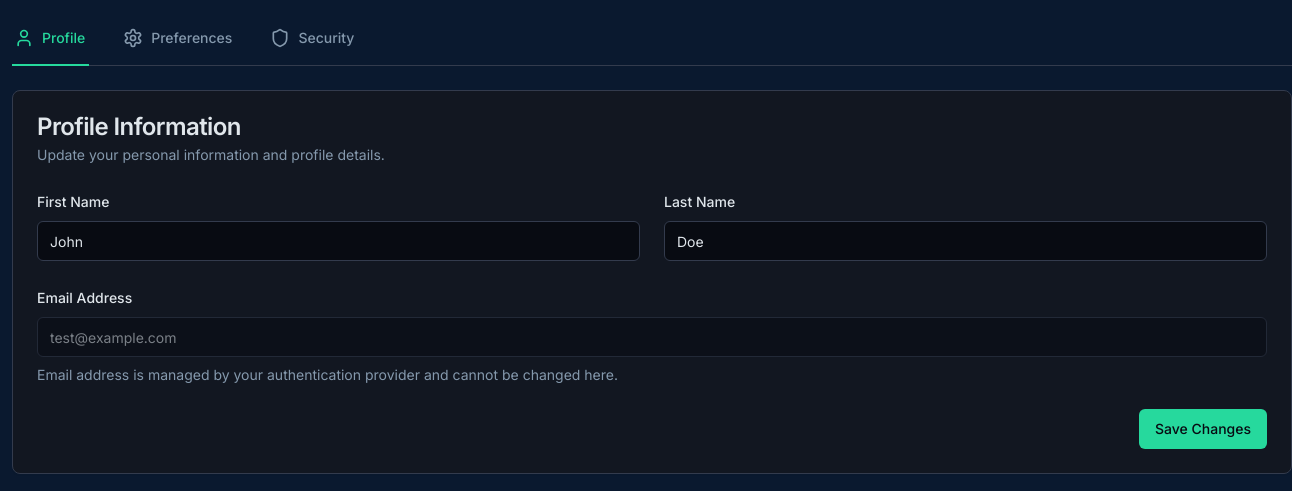
UserProfile › Profile Form › shows loading state during form submission
The image size is (1292, 491).
Click the button "Save Changes".
click(1203, 429)  # box [1139, 409, 1267, 449]
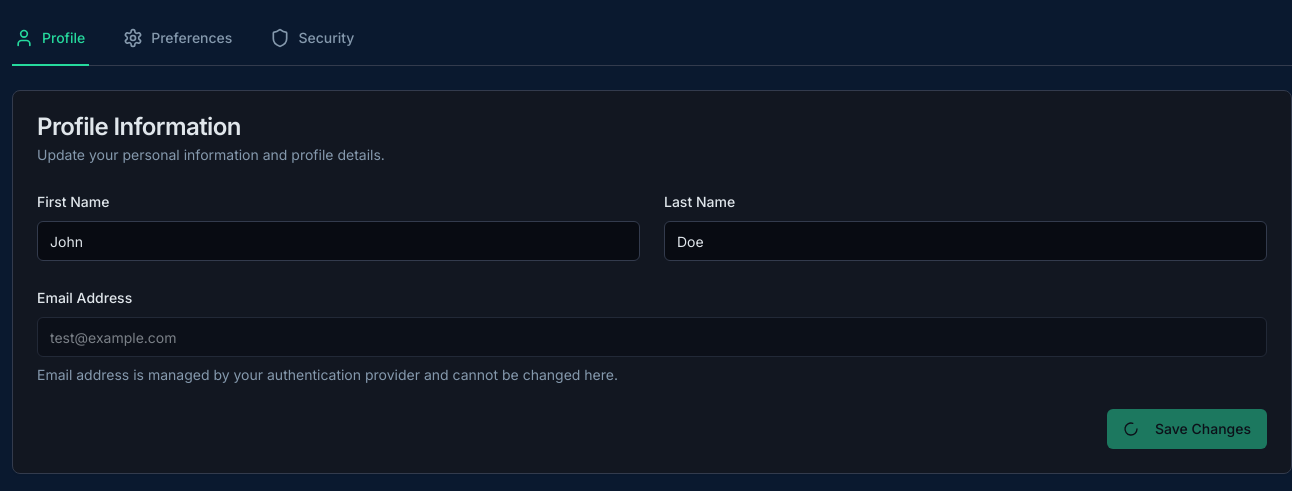
Expected: the button "Save Changes" is disabled, [1107, 409, 1267, 449]
Expected: the icon with class "animate-spin" is shown, [1123, 421, 1139, 437]
